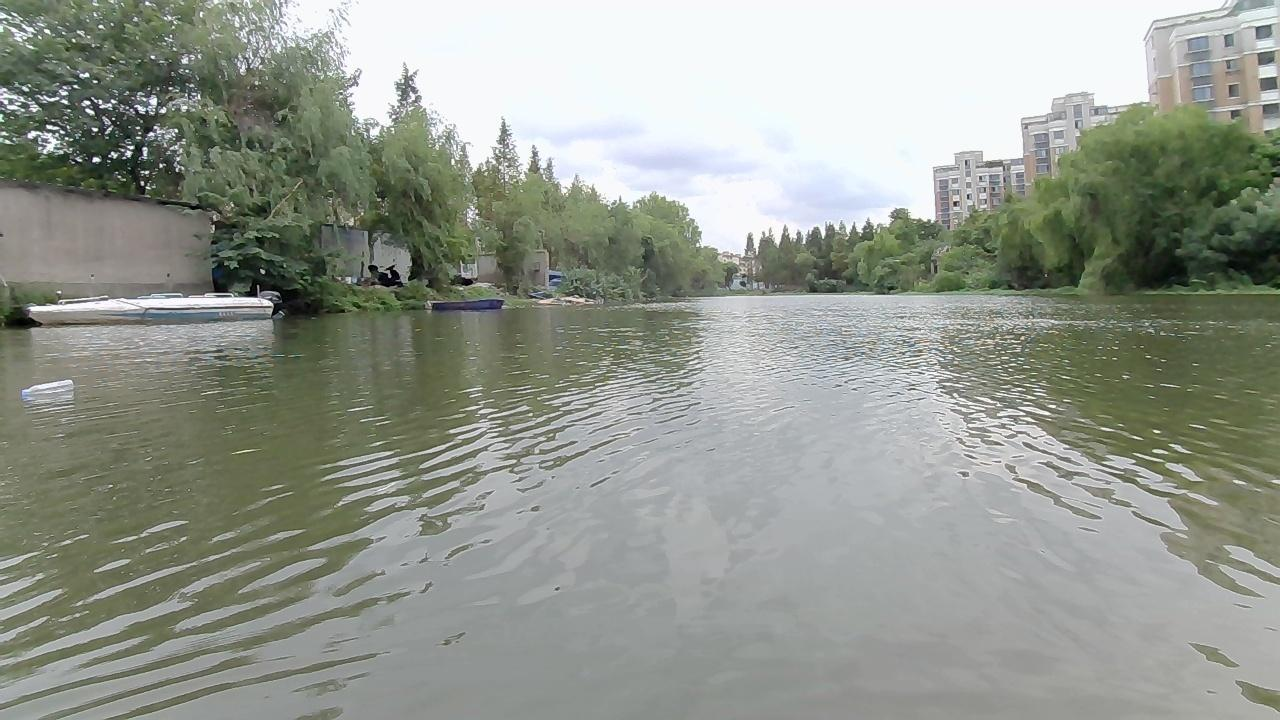bottle: (23, 379, 72, 398)
